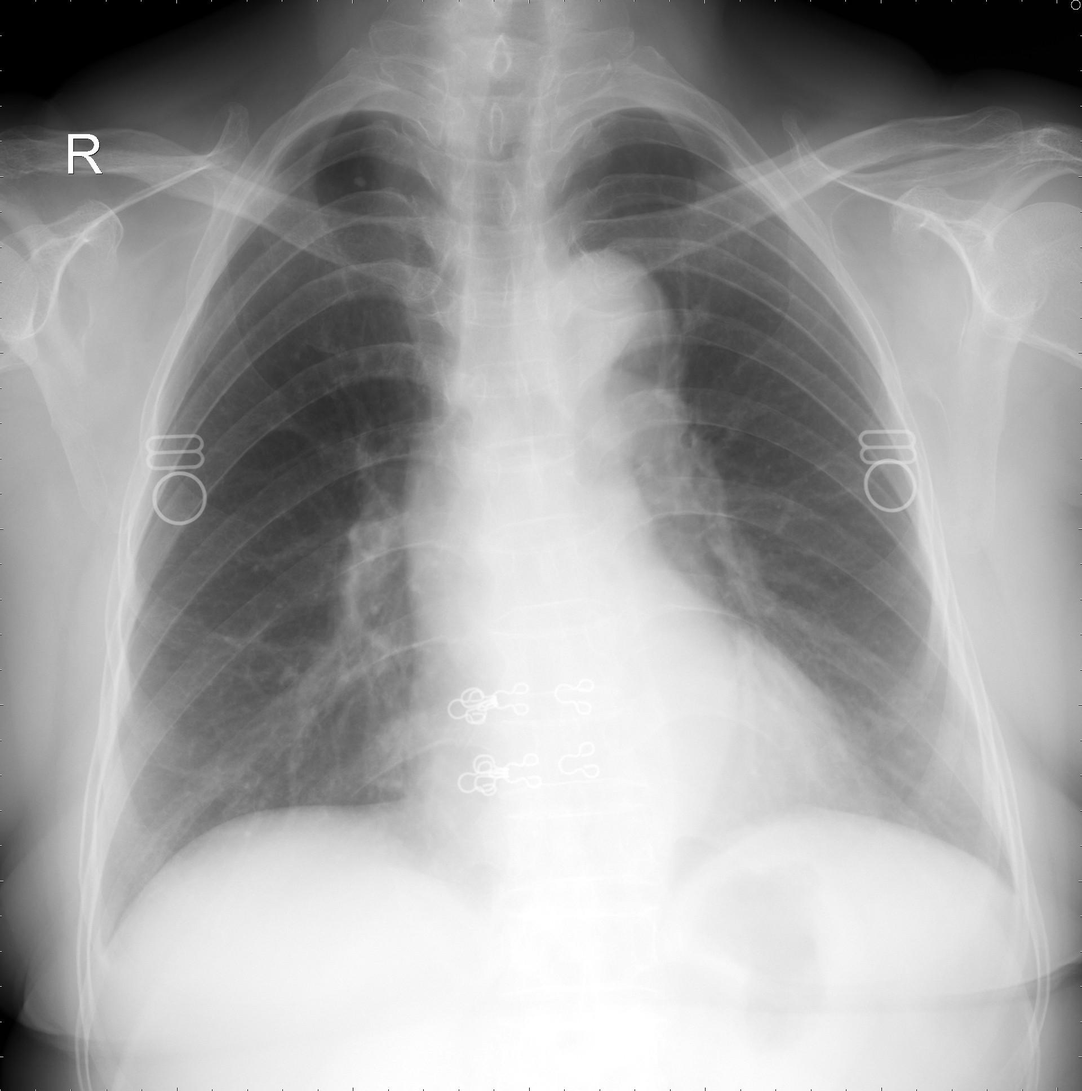Aortic enlargement: (515, 250, 686, 434)
Cardiomegaly: (392, 725, 883, 884)
